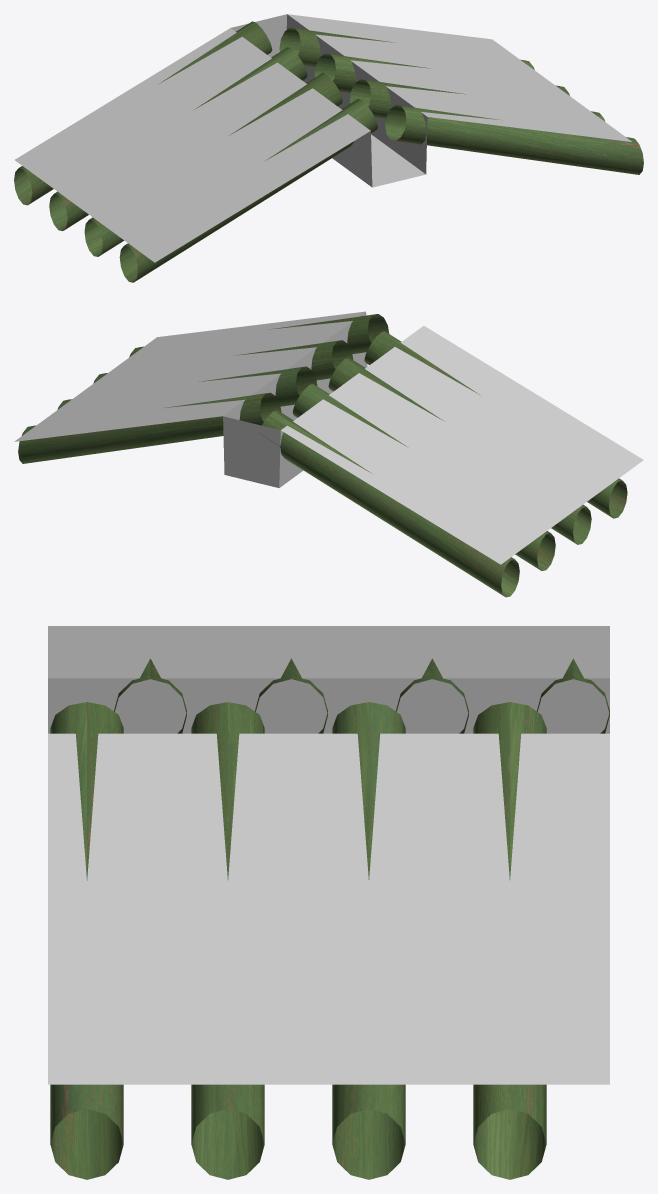
Rendered from SM_Giwa01A-b.fbx.
3 renders of one model, top to bottom at view 1: azimuth 30°, elevation 25°; view 2: azimuth 150°, elevation 25°; view 3: azimuth 270°, elevation 25°, orthographic. The views are drawn at different scales.
Visible parts, largest first — view 1: SM_Giwa01A-b; view 2: SM_Giwa01A-b; view 3: SM_Giwa01A-b.
Part boxes in pixels (left/top/right/bottom): SM_Giwa01A-b: left=14, top=14, right=643, bottom=282; SM_Giwa01A-b: left=14, top=311, right=643, bottom=597; SM_Giwa01A-b: left=48, top=626, right=609, bottom=1179.
Bounding box in the file's own units: 247 × 123 × 60.28.
